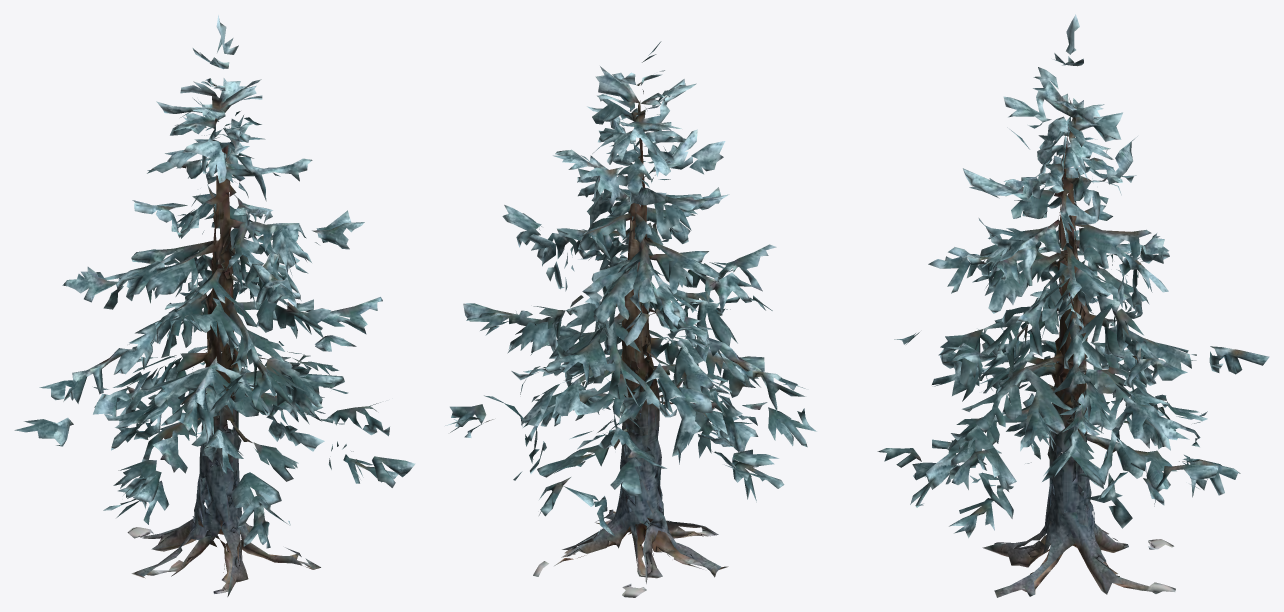
File: abeto_geada_adulta.glb
The picture shows the model from 3 angles, left to right: view 1: azimuth 30°, elevation 25°; view 2: azimuth 150°, elevation 25°; view 3: azimuth 270°, elevation 25°; orthographic projection. The views are drawn at different scales.
Parts seen in each view (by area): view 1: geometry_0.004; view 2: geometry_0.004; view 3: geometry_0.004.
Part boxes in pixels (box(x1,y1,x2,y2)): geometry_0.004: box(14, 15, 415, 596); geometry_0.004: box(445, 41, 816, 597); geometry_0.004: box(877, 14, 1269, 597).
Bounding box in the file's own units: 0.6523 × 0.9729 × 0.6248.
Materials: 1 (1 with a texture image).
